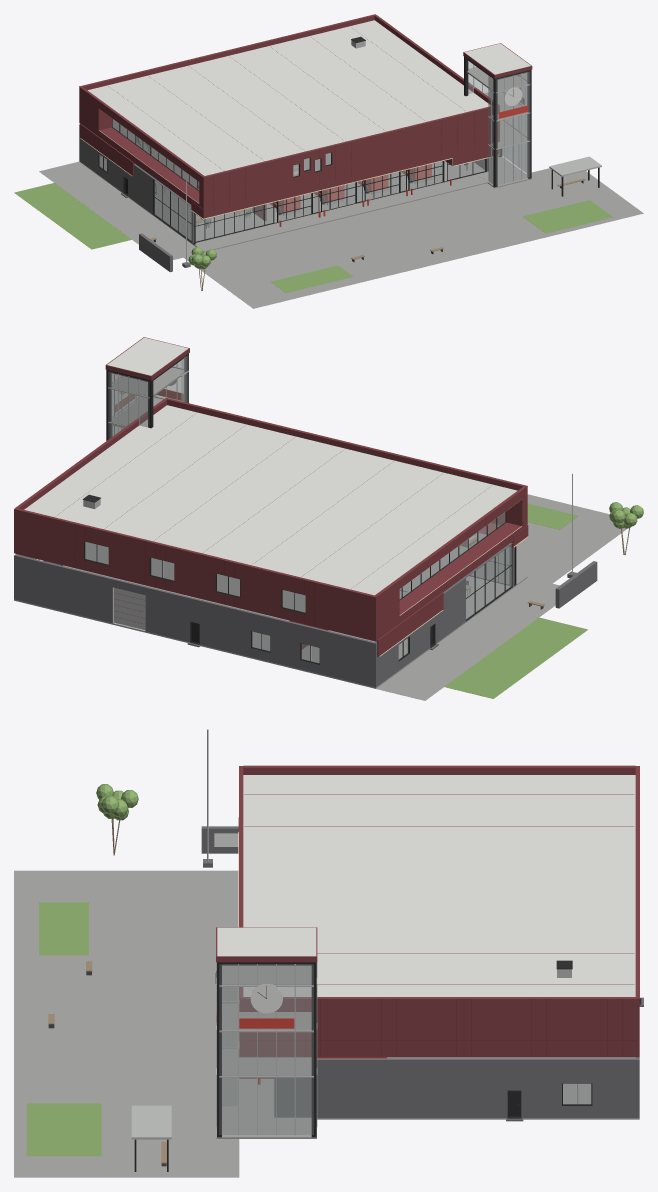
Rendered from clay-cantilever-fire-station-clay-v006.glb.
3 views of the same model, one above another, from view 1: azimuth 30°, elevation 25°; view 2: azimuth 150°, elevation 25°; view 3: azimuth 270°, elevation 25° (orthographic). The views are drawn at different scales.
Visible parts, largest first — view 1: CLAY_FOUNDATION, CLAY_ROOF, CLAY_WALL, CLAY_GLASS, CLAY_PLANTING, CLAY_TRIM, CLAY_STONE, CLAY_FLOOR, CLAY_PALE, CLAY_RED, CLAY_GLOW, CLAY_JOINT (+1 smaller); view 2: CLAY_ROOF, CLAY_WALL, CLAY_STONE, CLAY_FOUNDATION, CLAY_GLASS, CLAY_PLANTING, CLAY_FLOOR, CLAY_TRIM, CLAY_PALE, CLAY_JOINT; view 3: CLAY_ROOF, CLAY_FOUNDATION, CLAY_WALL, CLAY_STONE, CLAY_GLASS, CLAY_PLANTING, CLAY_FLOOR, CLAY_PALE, CLAY_TRIM, CLAY_JOINT, CLAY_WHITE, CLAY_RED.
Boxes of the visible parts, x1,y1,x2,y2 form: CLAY_FOUNDATION: (39, 145, 643, 308); CLAY_ROOF: (88, 20, 530, 175); CLAY_WALL: (79, 14, 532, 221); CLAY_GLASS: (99, 61, 529, 242); CLAY_PLANTING: (14, 183, 612, 292); CLAY_TRIM: (98, 36, 599, 244); CLAY_STONE: (79, 125, 488, 272); CLAY_FLOOR: (112, 68, 527, 189); CLAY_PALE: (137, 40, 601, 263); CLAY_RED: (269, 98, 528, 226); CLAY_GLOW: (80, 111, 499, 219); CLAY_JOINT: (108, 28, 474, 211); CLAY_ROOF: (24, 337, 517, 595); CLAY_WALL: (14, 337, 528, 656); CLAY_STONE: (14, 543, 597, 687); CLAY_FOUNDATION: (14, 494, 637, 700); CLAY_GLASS: (36, 355, 514, 663); CLAY_PLANTING: (444, 502, 643, 698); CLAY_FLOOR: (85, 367, 486, 612); CLAY_TRIM: (38, 353, 516, 664); CLAY_PALE: (83, 357, 572, 631); CLAY_JOINT: (25, 417, 490, 626); CLAY_ROOF: (217, 775, 635, 996); CLAY_FOUNDATION: (14, 870, 639, 1177); CLAY_WALL: (216, 765, 639, 1078); CLAY_STONE: (201, 826, 643, 1121); CLAY_GLASS: (219, 964, 591, 1134); CLAY_PLANTING: (26, 784, 138, 1156); CLAY_FLOOR: (222, 965, 311, 1075); CLAY_PALE: (131, 729, 571, 1139); CLAY_TRIM: (134, 960, 641, 1171); CLAY_JOINT: (244, 794, 636, 1056); CLAY_WHITE: (214, 833, 282, 1013); CLAY_RED: (216, 1011, 386, 1084).
Size of the model in its own units: 67 by 16.11 by 50.34.
